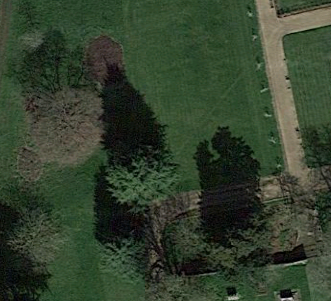tree: (18, 73, 104, 169), (100, 147, 190, 211), (90, 224, 150, 291)
